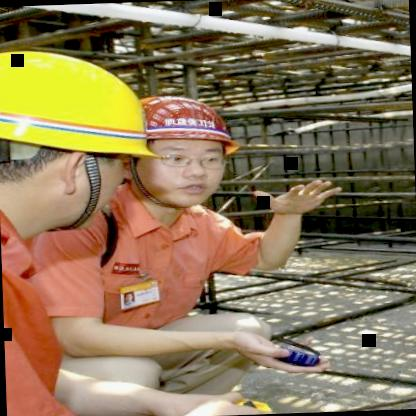helmet: (0, 38, 166, 234), (132, 83, 248, 211)
